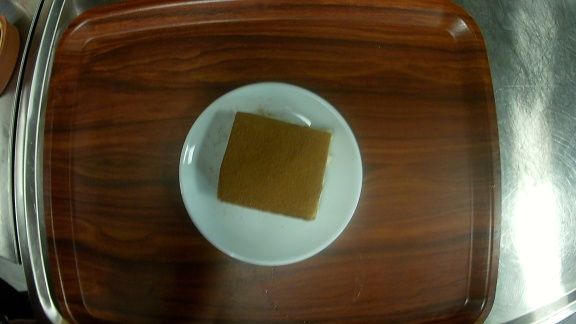tiramisu: (178, 82, 364, 264)
